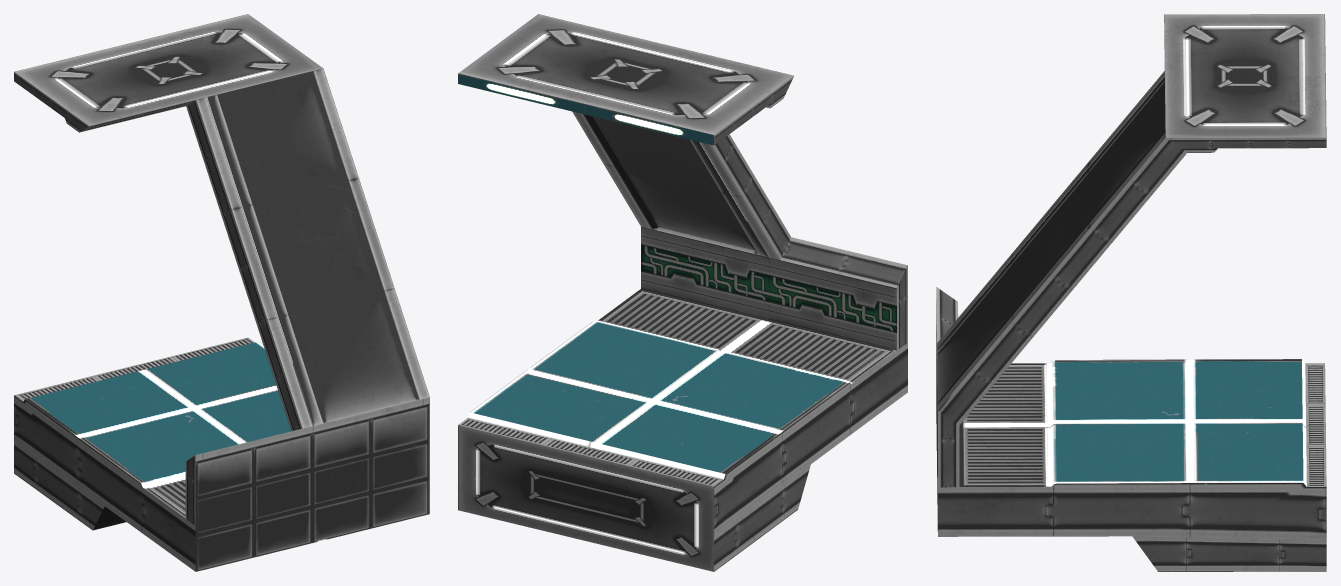
Rendered from ARC1110017.fbx.
The picture shows the model from 3 angles, left to right: view 1: azimuth 30°, elevation 25°; view 2: azimuth 150°, elevation 25°; view 3: azimuth 270°, elevation 25°; orthographic projection. The views are drawn at different scales.
Visible parts, largest first — view 1: smARC1110017; view 2: smARC1110017; view 3: smARC1110017.
Boxes of the visible parts, x1,y1,x2,y2 form: smARC1110017: (14, 14, 429, 571); smARC1110017: (458, 14, 907, 571); smARC1110017: (936, 14, 1326, 571).
Size of the model in its own units: 200 by 326 by 265.
Materials: 1 (1 with a texture image).
